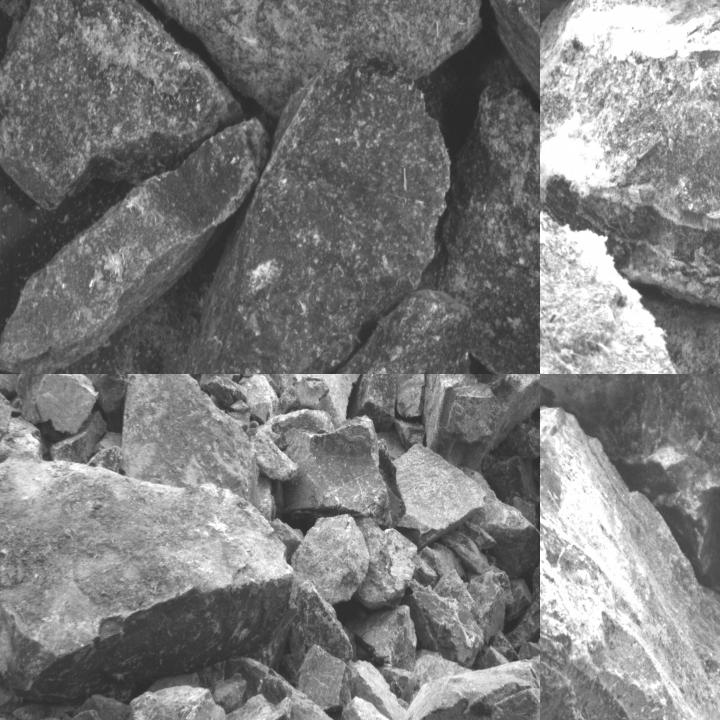stone: (152, 37, 453, 373), (0, 455, 289, 697), (0, 115, 270, 373), (540, 0, 719, 318), (540, 403, 719, 719), (540, 374, 719, 678), (0, 0, 247, 211), (132, 0, 484, 119), (433, 58, 539, 373), (540, 156, 684, 373), (122, 374, 262, 517), (453, 0, 539, 189), (296, 290, 485, 373), (423, 374, 539, 475), (286, 416, 388, 525), (398, 649, 539, 719), (395, 442, 488, 530), (356, 516, 443, 609), (290, 515, 369, 604), (411, 578, 484, 668), (288, 570, 350, 668), (16, 374, 99, 437), (238, 374, 350, 418), (300, 643, 352, 713), (129, 684, 230, 719), (52, 409, 112, 464), (353, 374, 396, 433), (204, 692, 295, 719), (0, 374, 12, 529), (394, 374, 429, 418), (343, 697, 399, 719), (181, 374, 240, 384)
